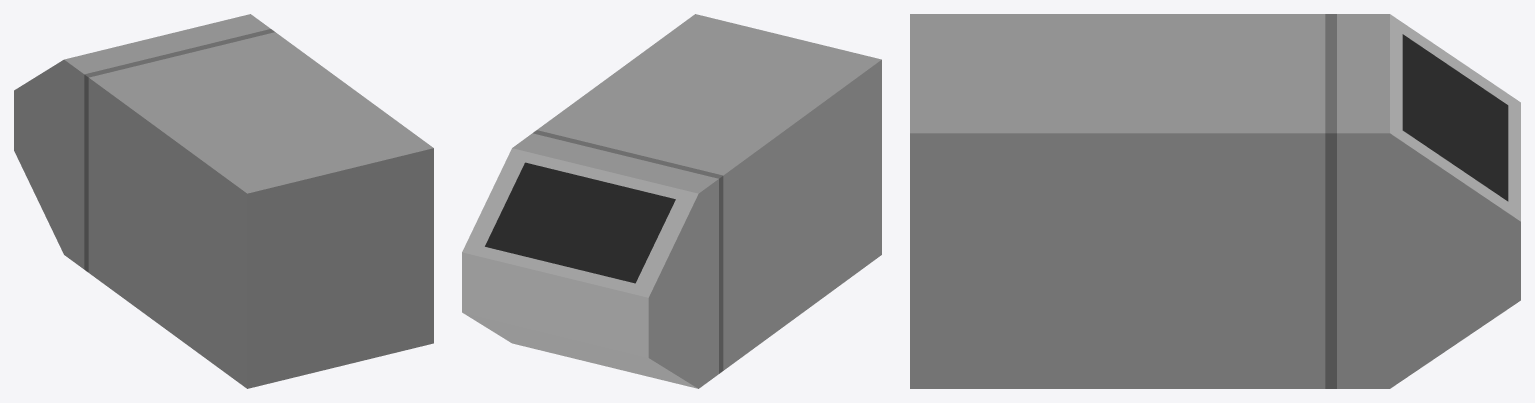
The model's file is RubbishBin.glb.
The picture shows the model from 3 angles, left to right: view 1: azimuth 30°, elevation 25°; view 2: azimuth 150°, elevation 25°; view 3: azimuth 270°, elevation 25°; orthographic projection. The views are drawn at different scales.
Visible parts, largest first — view 1: SO_RubbishBin_01; view 2: SO_RubbishBin_01; view 3: SO_RubbishBin_01.
Boxes of the visible parts, box(x1,y1,x2,y2) form: SO_RubbishBin_01: box(14, 14, 433, 388); SO_RubbishBin_01: box(462, 14, 881, 388); SO_RubbishBin_01: box(910, 14, 1520, 388).
Size of the model in its own units: 0.4546 by 0.4546 by 0.9842.
1 material, 1 textured.
